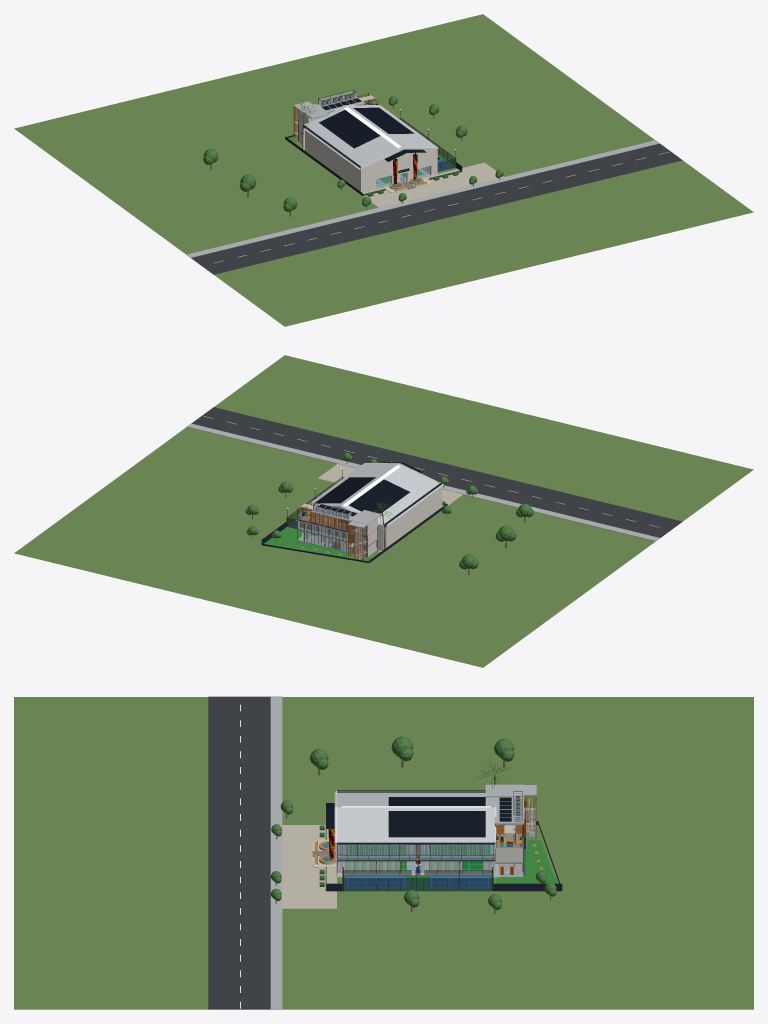
Rendered from MyPlace_Master_vR51.dae.
3 renders of one model, top to bottom at view 1: azimuth 30°, elevation 25°; view 2: azimuth 150°, elevation 25°; view 3: azimuth 270°, elevation 25°, orthographic. The views are drawn at different scales.
Parts seen in each view (by area): view 1: site__grass, site__asphalt, hall_shell__plaster, hall_roof__roofSheet, site__concrete, hall_roof__solar, site__paving, trees__treeCrown; view 2: site__grass, site__asphalt, hall_roof__roofSheet, site__concrete, hall_roof__solar, hall_shell__plaster, trees__treeCrown, outdoor__turf, fences__charcoal, site__paving, rear_roof__concrete; view 3: site__grass, site__asphalt, hall_roof__roofSheet, site__paving, site__concrete, hall_roof__solar, outdoor__mat_1f2937, hall_shell__glass, trees__treeCrown, hall_interior__court, outdoor__pickleTex, hall_shell__glassFrost (+10 smaller).
Part boxes in pixels (x1=…): site__grass: x1=14, y1=14, x2=753, y2=326; site__asphalt: x1=191, y1=143, x2=682, y2=274; hall_shell__plaster: x1=302, y1=105, x2=437, y2=192; hall_roof__roofSheet: x1=304, y1=105, x2=438, y2=169; site__concrete: x1=187, y1=140, x2=659, y2=257; hall_roof__solar: x1=319, y1=107, x2=413, y2=148; site__paving: x1=362, y1=162, x2=503, y2=207; trees__treeCrown: x1=203, y1=96, x2=503, y2=211; site__grass: x1=14, y1=355, x2=753, y2=667; site__asphalt: x1=191, y1=407, x2=682, y2=537; hall_roof__roofSheet: x1=308, y1=463, x2=443, y2=525; site__concrete: x1=186, y1=423, x2=659, y2=551; hall_roof__solar: x1=314, y1=477, x2=409, y2=513; hall_shell__plaster: x1=308, y1=463, x2=442, y2=550; trees__treeCrown: x1=245, y1=452, x2=533, y2=569; outdoor__turf: x1=264, y1=527, x2=371, y2=561; fences__charcoal: x1=261, y1=503, x2=447, y2=562; site__paving: x1=318, y1=464, x2=462, y2=506; rear_roof__concrete: x1=311, y1=503, x2=381, y2=528; site__grass: x1=14, y1=697, x2=753, y2=1009; site__asphalt: x1=208, y1=696, x2=270, y2=1009; hall_roof__roofSheet: x1=334, y1=792, x2=495, y2=842; site__paving: x1=282, y1=825, x2=495, y2=908; site__concrete: x1=270, y1=696, x2=499, y2=1009; hall_roof__solar: x1=388, y1=797, x2=485, y2=837; outdoor__mat_1f2937: x1=342, y1=870, x2=493, y2=890; hall_shell__glass: x1=337, y1=844, x2=494, y2=859; trees__treeCrown: x1=270, y1=736, x2=556, y2=909; hall_interior__court: x1=345, y1=845, x2=490, y2=870; outdoor__pickleTex: x1=345, y1=876, x2=490, y2=888; hall_shell__glassFrost: x1=337, y1=861, x2=495, y2=872.
Bounding box in the file's own units: 160 × 160 × 16.22.
Materials: 72 (6 with a texture image).
